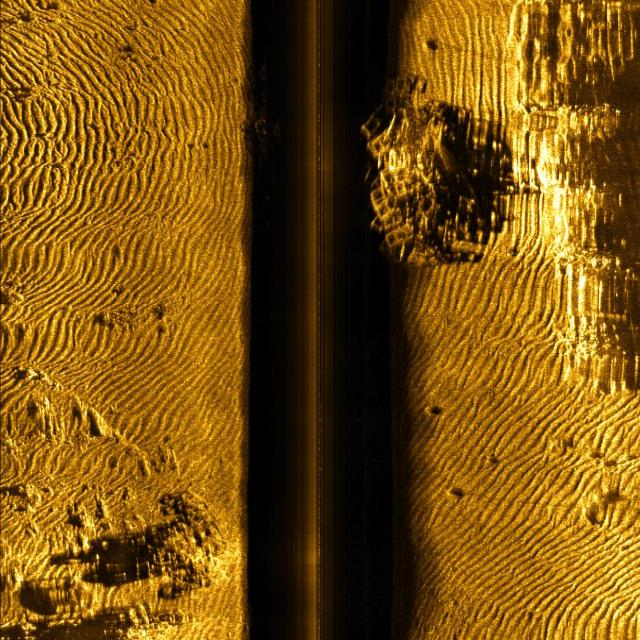artificial reef: (353, 70, 485, 268), (249, 56, 289, 170)
